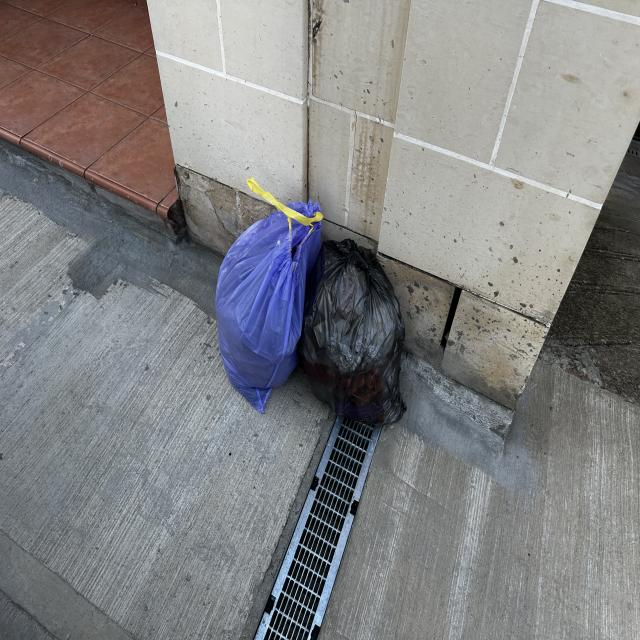Mixed Waste -Black Bags-: (297, 239, 407, 423)
Others Waste: (214, 177, 324, 414)
